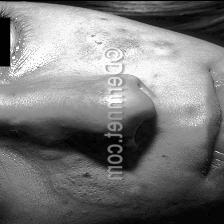Toxin: (118, 27, 172, 66), (61, 172, 110, 204), (72, 18, 102, 64), (182, 104, 198, 122)
